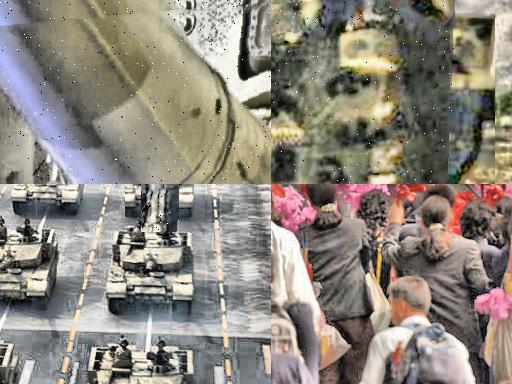tanks: (1, 4, 272, 185), (272, 1, 455, 185), (107, 226, 196, 314), (1, 220, 60, 311), (89, 342, 196, 384), (13, 185, 85, 215), (144, 185, 179, 232)
